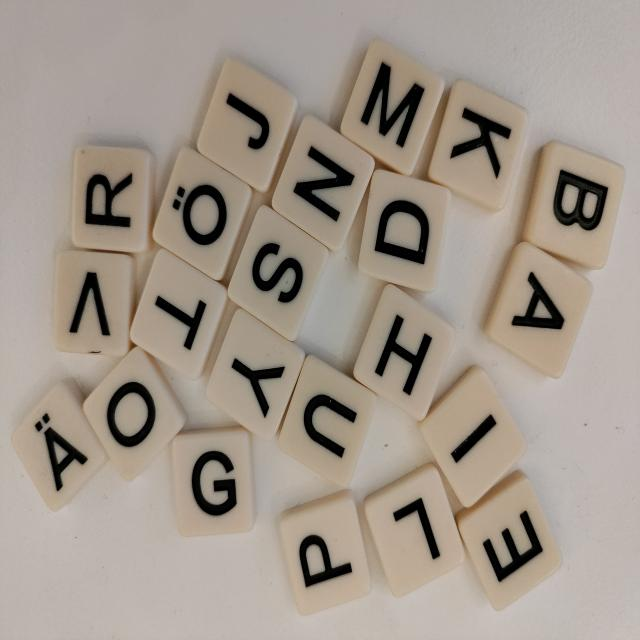a: (481, 236, 596, 383)
a_dot: (8, 375, 110, 517)
b: (520, 135, 628, 274)
d: (357, 167, 452, 296)
e: (454, 465, 566, 614)
g: (171, 426, 258, 538)
h: (351, 280, 459, 424)
i: (416, 360, 530, 512)
j: (194, 53, 302, 198)
k: (424, 74, 532, 215)
l: (361, 461, 467, 600)
m: (338, 34, 447, 181)
n: (270, 111, 378, 257)
o: (80, 341, 191, 485)
o_dot: (150, 143, 256, 284)
p: (277, 487, 374, 617)
r: (69, 147, 156, 255)
s: (224, 200, 332, 346)
t: (127, 245, 231, 384)
u: (275, 350, 380, 491)
v: (53, 248, 138, 356)
y: (202, 305, 308, 445)
